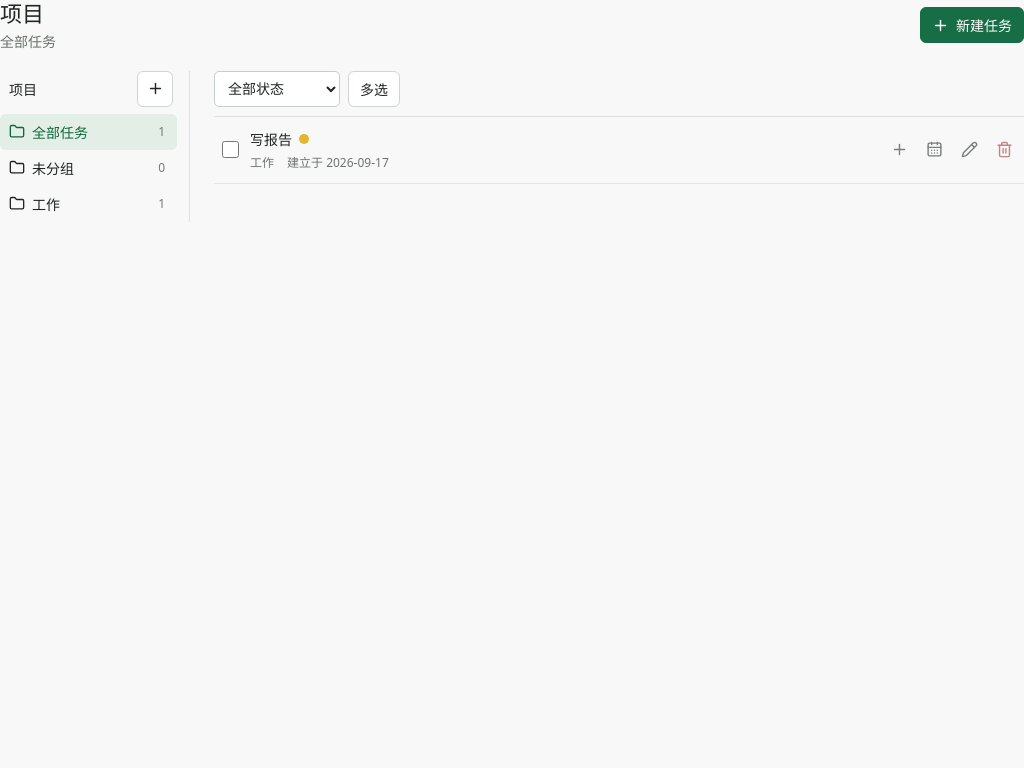
Test case: delete-project dialog says tasks are kept in 未分组
Click the button "工作 1". click: (88, 204)
box: [0,186,177,222]
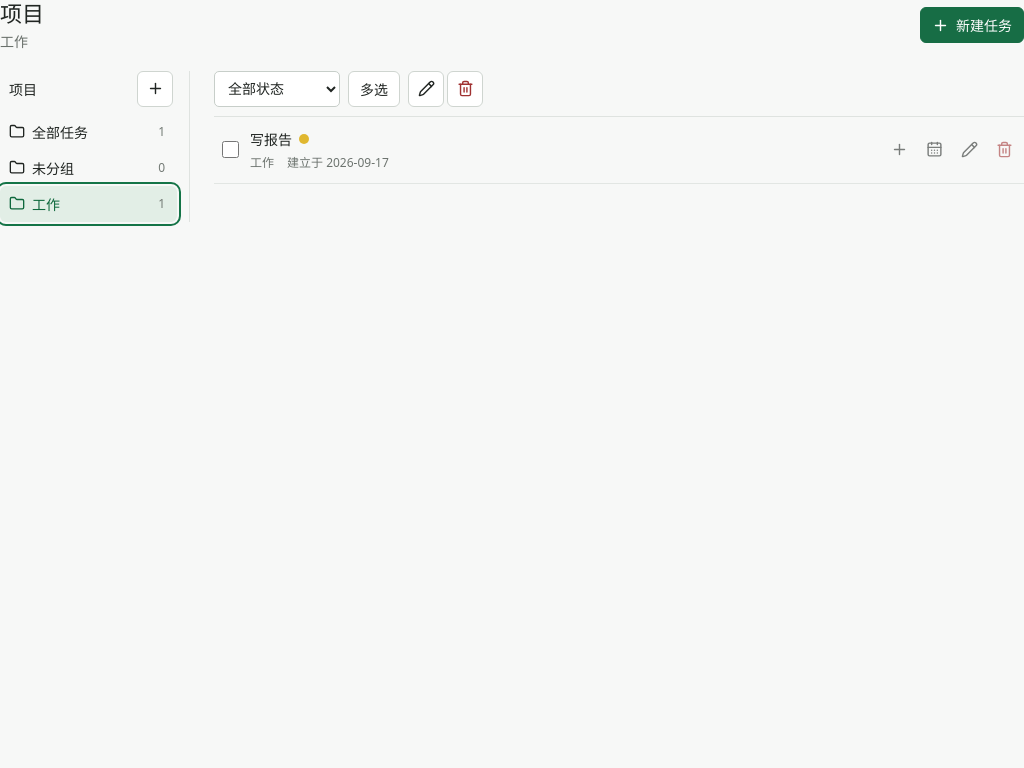
Click the button named "删除 工作". click: (465, 88)
box: [447,70,483,106]
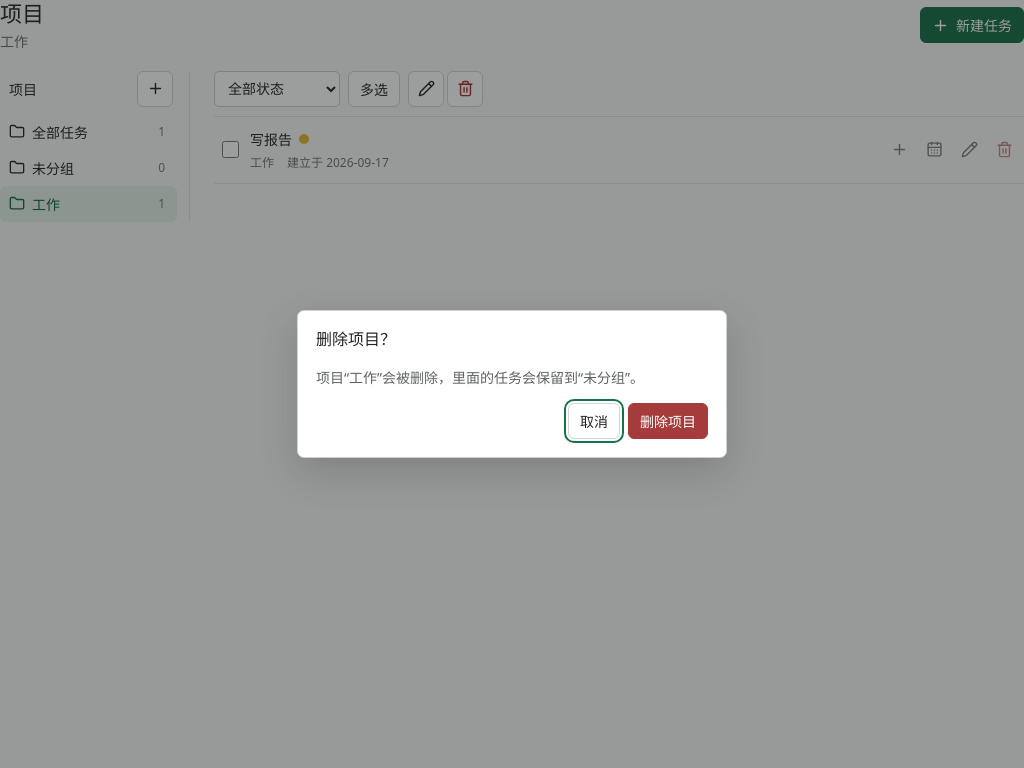
Now the text "项目“工作”会被删除，里面的任务会保留到“未分组”。" is shown, box [316,368,644,387]
